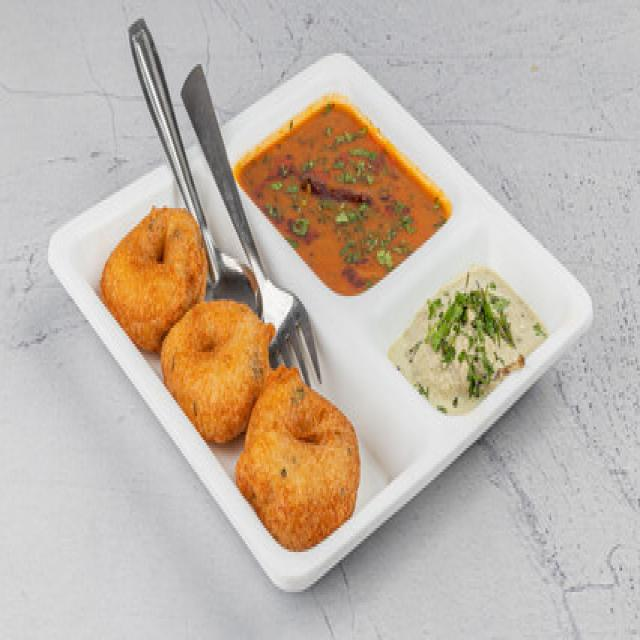BONDA: (86, 163, 384, 551)
SAMBAR: (230, 73, 459, 318)
WHITE CHUTNEY: (373, 255, 568, 436)
